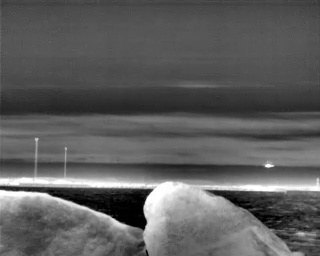HELICOPTER: (261, 159, 277, 173)
